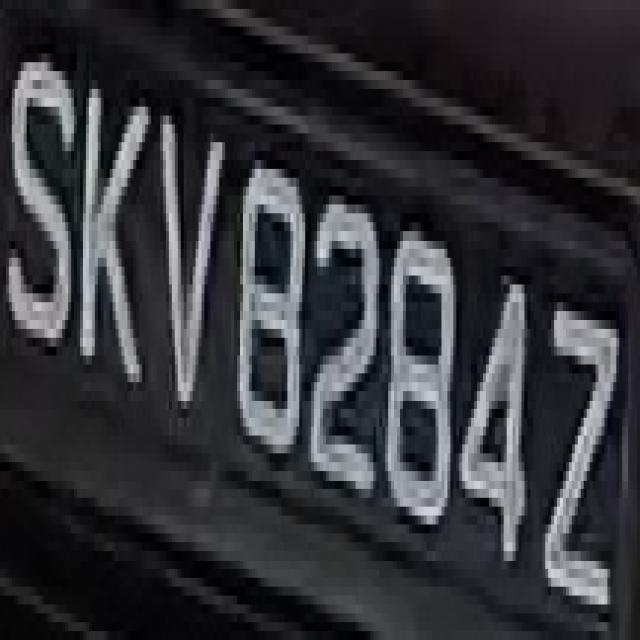2: (308, 169, 382, 507)
4: (456, 231, 536, 560)
8: (379, 205, 462, 542), (237, 124, 305, 480)
K: (83, 53, 154, 400)
S: (12, 9, 77, 355)
V: (157, 80, 228, 427)
Z: (542, 258, 628, 622)
